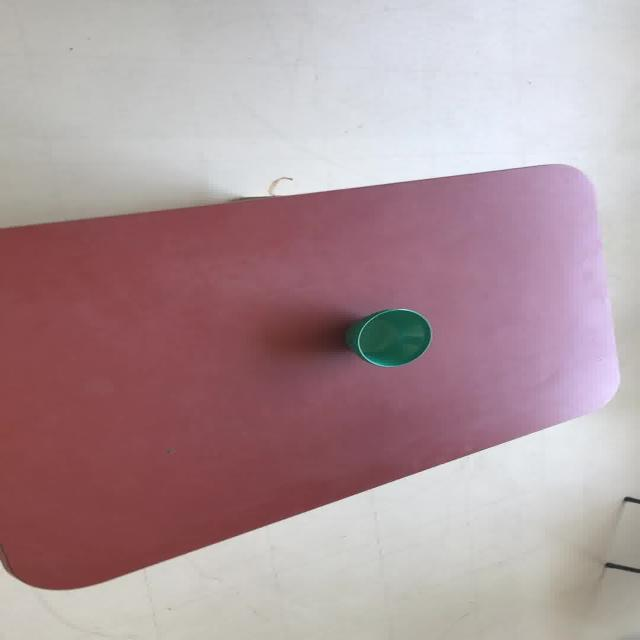bowl: (1, 162, 620, 590), (343, 308, 432, 368)
